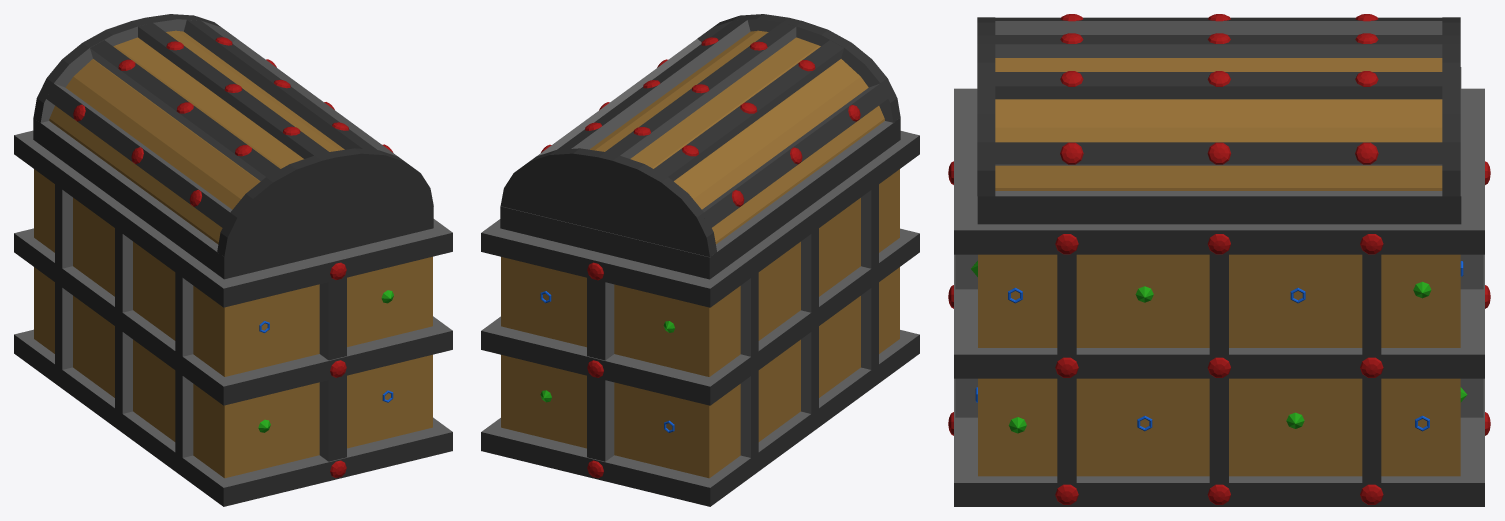
File: Hazine.fbx
3 renders of one model, left to right at view 1: azimuth 30°, elevation 25°; view 2: azimuth 150°, elevation 25°; view 3: azimuth 270°, elevation 25°, orthographic. The views are drawn at different scales.
Parts seen in each view (by area): view 1: Cube.008; view 2: Cube.008; view 3: Cube.008.
Boxes of the visible parts, x1=… form: Cube.008: x1=14, y1=14, x2=452, y2=506; Cube.008: x1=481, y1=14, x2=919, y2=506; Cube.008: x1=948, y1=14, x2=1490, y2=506.
Bounding box in the file's own units: 112 × 145 × 178.
